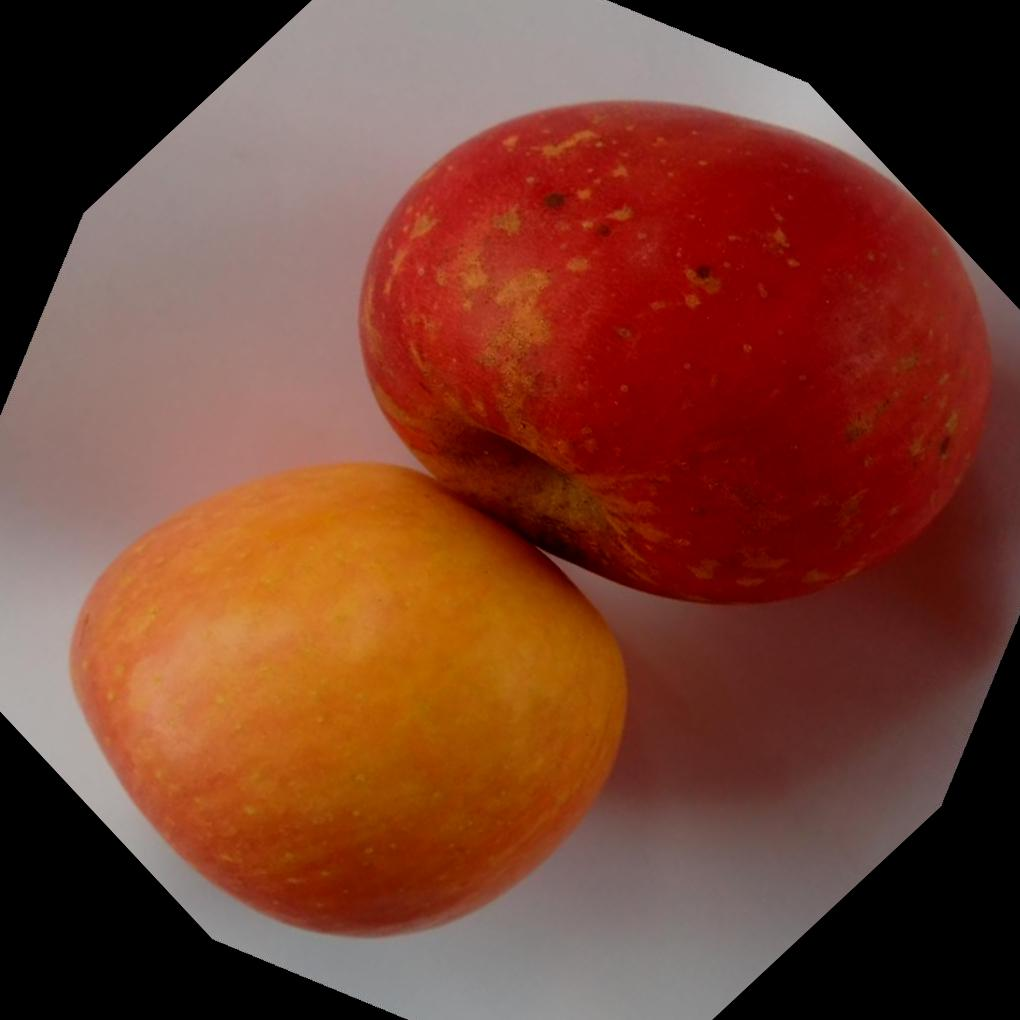FreshGuava: (67, 94, 996, 939)
